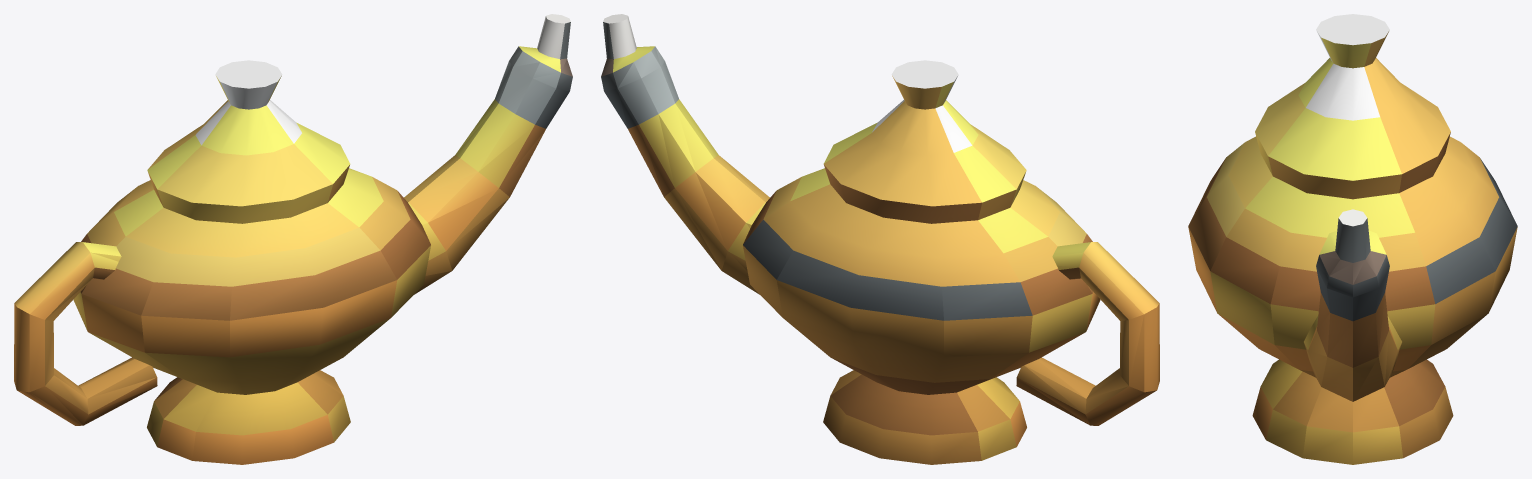
File: tool_lamp_oil.glb
3 views of the same model, side by side, from view 1: azimuth 30°, elevation 25°; view 2: azimuth 150°, elevation 25°; view 3: azimuth 270°, elevation 25° (orthographic). The views are drawn at different scales.
Visible parts, largest first — view 1: Item; view 2: Item; view 3: Item.
Part boxes in pixels (<box>): Item: <box>14,14,572,464</box>; Item: <box>601,14,1159,464</box>; Item: <box>1188,14,1517,464</box>.
Size of the model in its own units: 0.8751 by 0.53 by 0.41.
4 materials, 4 textured.
